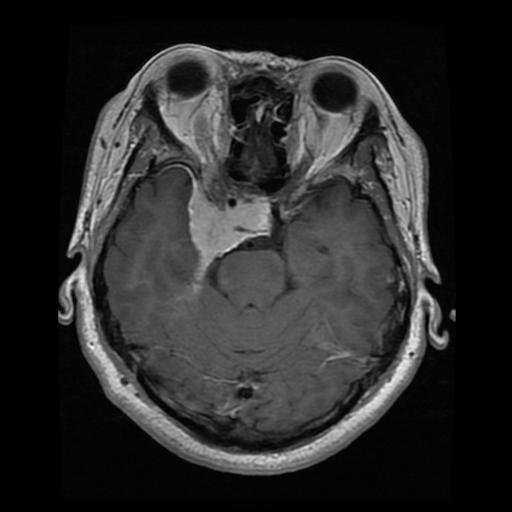Menigiomia_tumour: (186, 182, 272, 289)
